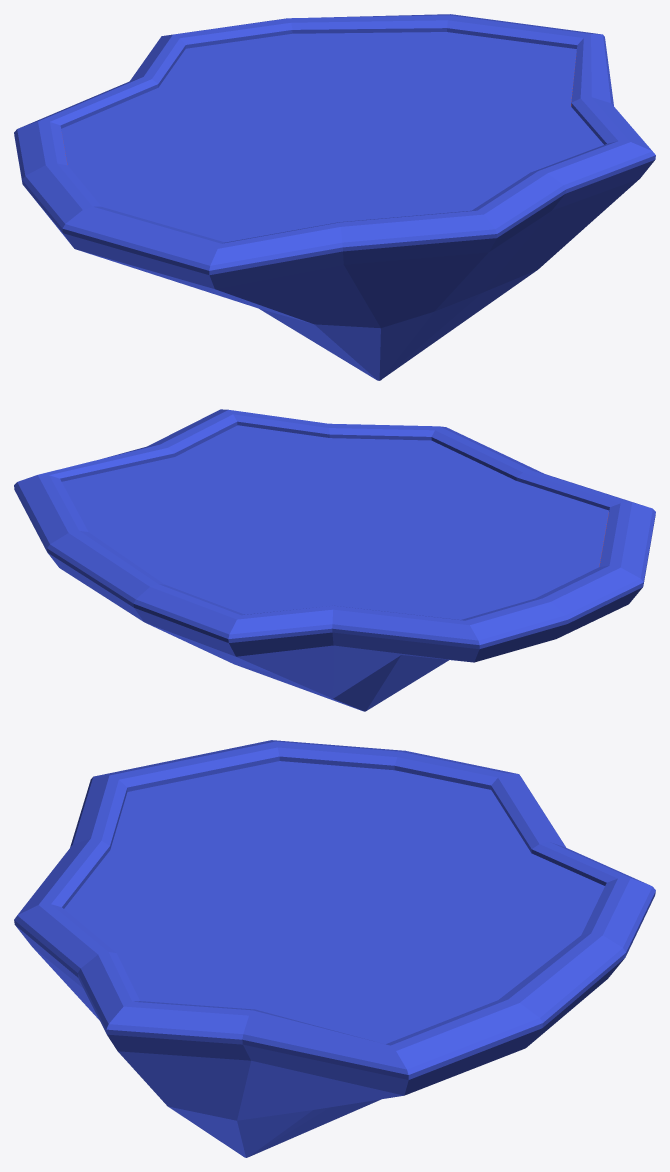
The model's file is untitledfinalwithTransformation.fbx.
3 renders of one model, top to bottom at view 1: azimuth 30°, elevation 25°; view 2: azimuth 150°, elevation 25°; view 3: azimuth 270°, elevation 25°, orthographic. The views are drawn at different scales.
Visible parts, largest first — view 1: body.002, body.001; view 2: body.002, body.001; view 3: body.002, body.001.
Part boxes in pixels (x1,y1,x2,y2): body.002: [61, 32, 603, 242]; body.001: [14, 14, 655, 380]; body.002: [62, 425, 608, 619]; body.001: [14, 409, 655, 711]; body.002: [64, 761, 604, 1044]; body.001: [14, 740, 655, 1157].
Bounding box in the file's own units: 445 × 162 × 363.
